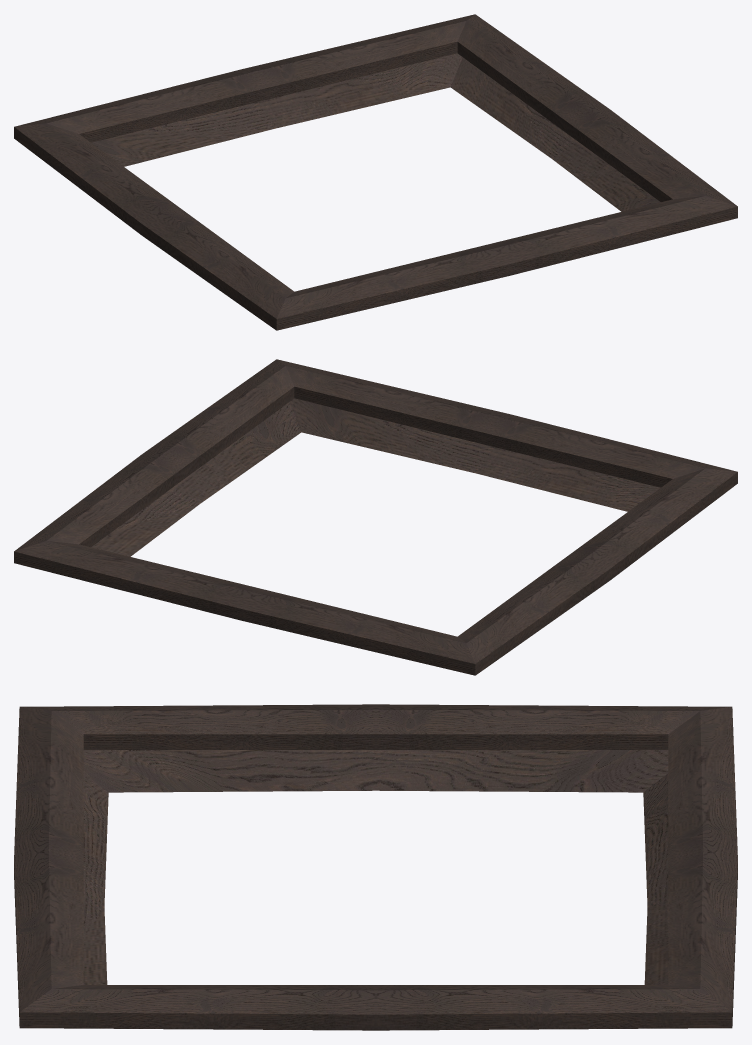
File: boarder_v2.FBX
3 views of the same model, one above another, from view 1: azimuth 30°, elevation 25°; view 2: azimuth 150°, elevation 25°; view 3: azimuth 270°, elevation 25° (orthographic). The views are drawn at different scales.
Visible parts, largest first — view 1: Border; view 2: Border; view 3: Border.
Part boxes in pixels (x1,y1,x2,y2): Border: (14,14,737,330); Border: (14,359,737,675); Border: (14,704,737,1030).
Bounding box in the file's own units: 1010 × 86.71 × 996.
